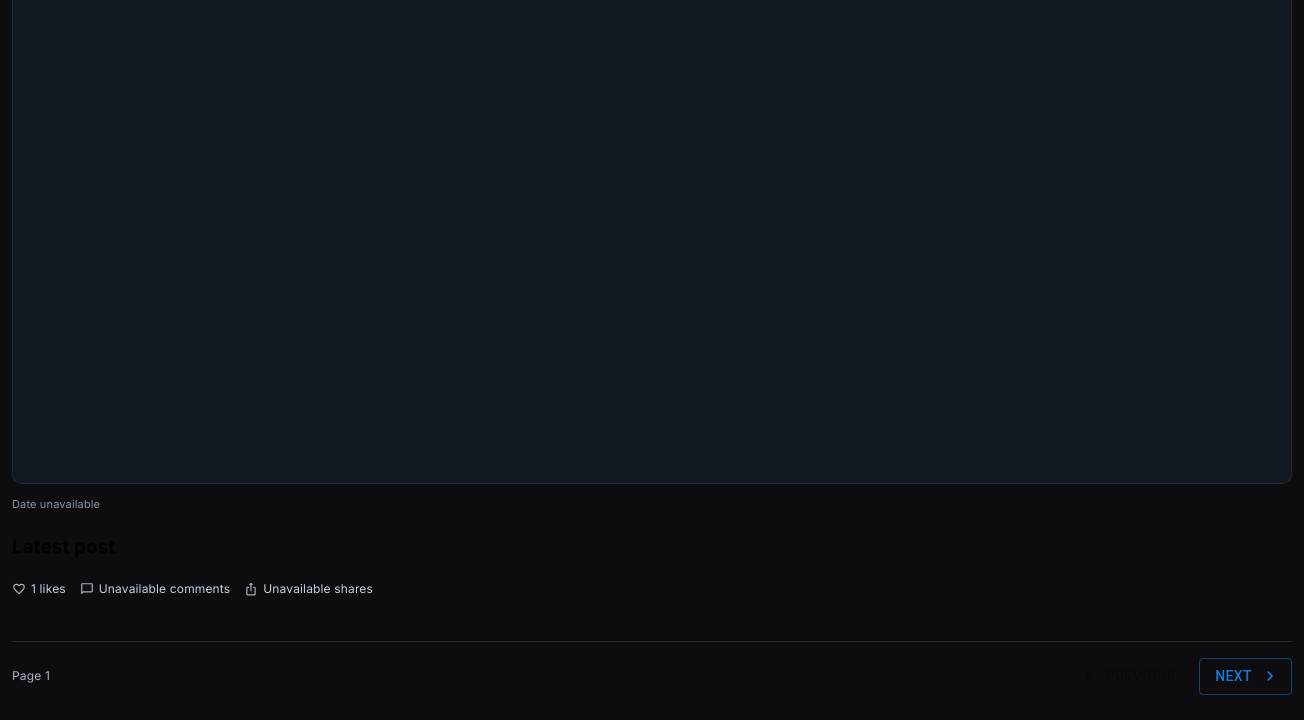
loads one bounded page at a time and navigates back with the original cursor
The image size is (1304, 720).
Later steps or results of the test are not shown.
(page scrolled)
Click the button "Next": (1246, 676) [1199,658,1292,695]
(page scrolled)
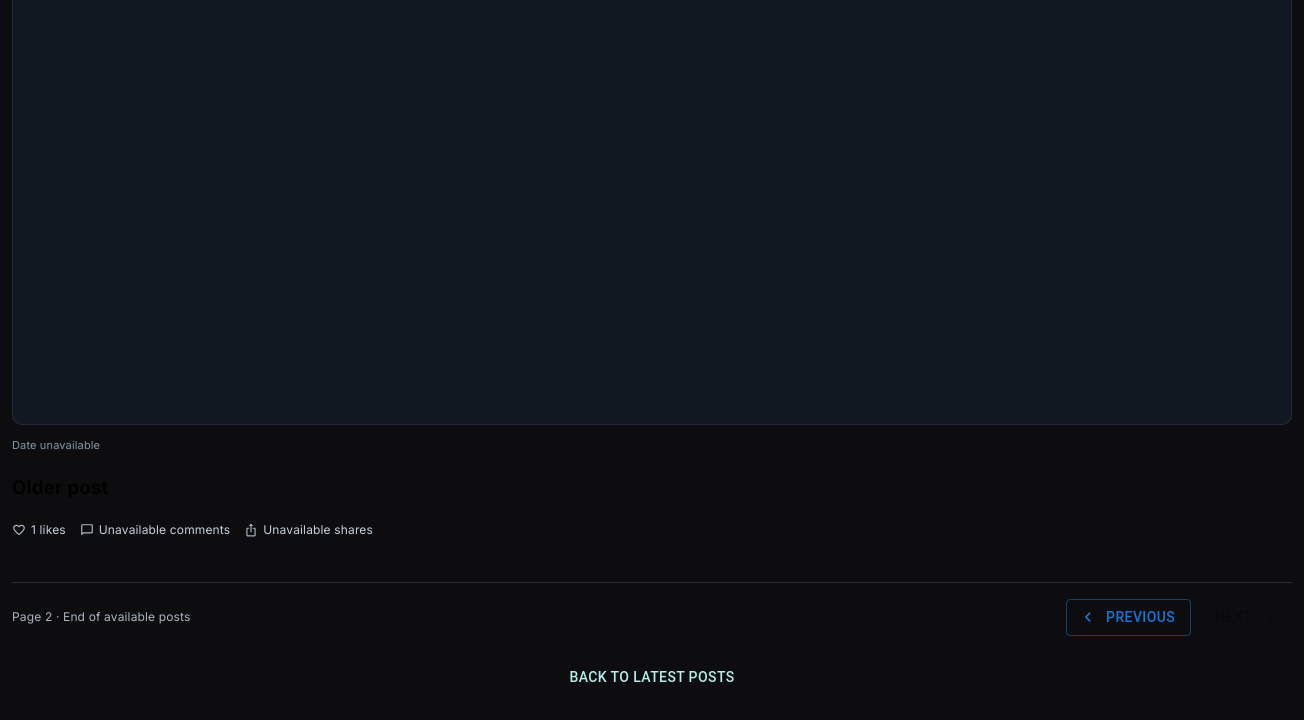
Check: the text "Page 2 · End of available posts" is shown, box [12,608,190,626]
